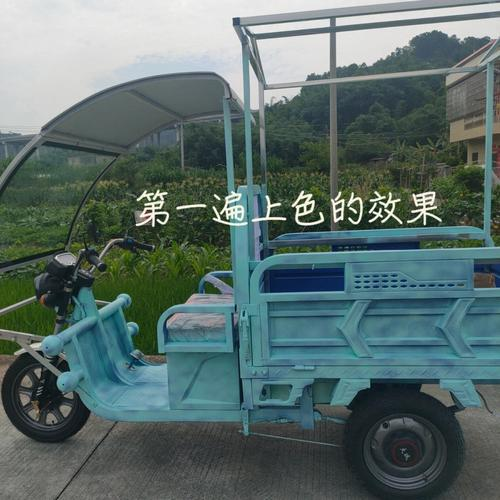empty: (16, 130, 496, 475)
